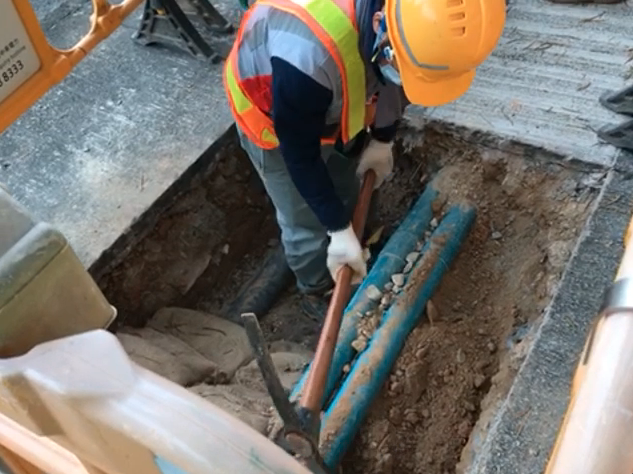Hard Hat: (374, 3, 509, 106)
Person: (217, 2, 506, 327)
Vest: (224, 3, 389, 151)
